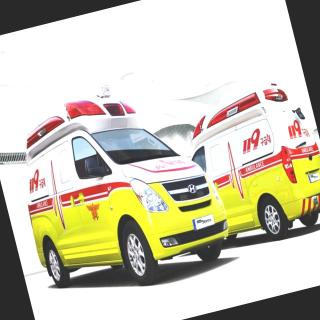Ambulance: (0, 70, 242, 319)
